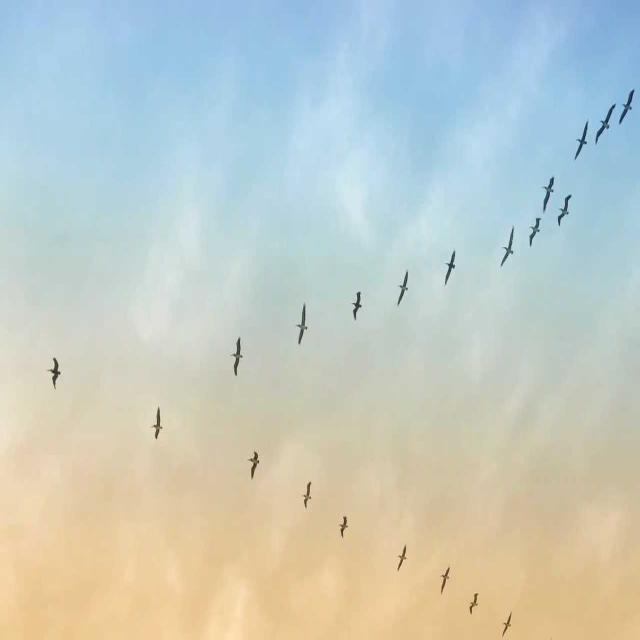bird: (594, 103, 619, 148), (499, 225, 516, 271), (620, 86, 638, 129), (293, 300, 308, 347), (230, 334, 245, 377), (541, 174, 557, 213), (396, 268, 411, 309), (558, 192, 575, 228), (575, 122, 590, 161), (444, 246, 458, 287), (529, 212, 544, 246), (47, 356, 62, 389), (152, 404, 165, 442), (351, 289, 365, 321), (248, 448, 261, 481), (397, 544, 409, 572), (438, 566, 449, 596), (302, 480, 313, 509), (469, 591, 481, 616), (501, 611, 512, 637), (338, 515, 348, 539)
